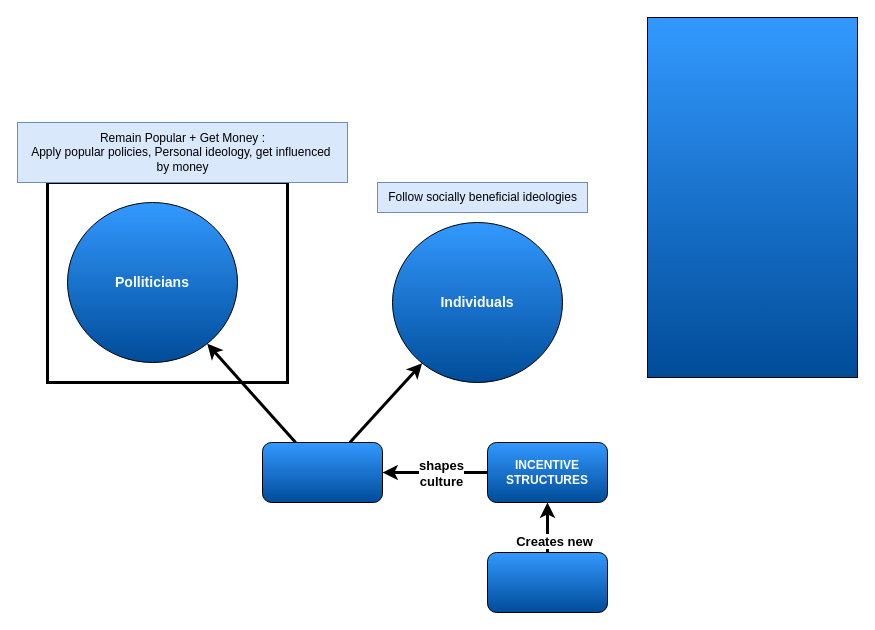
Image size: 875x630. Some labels were removed from this diagram. Here are the shapes that lost their labels. From the top down, the centre of each, then its label:
At (752,197): "CULTURE : Ideas, Values, habits that a given group of people share.".
At (322,472): "CULTURE".
At (547,582): "TECHNOLOGY".
